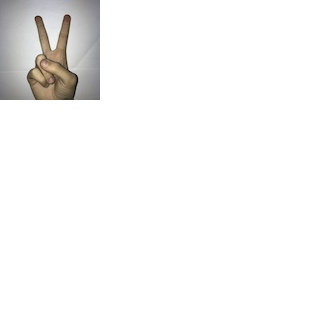scissors: (23, 7, 80, 99)
